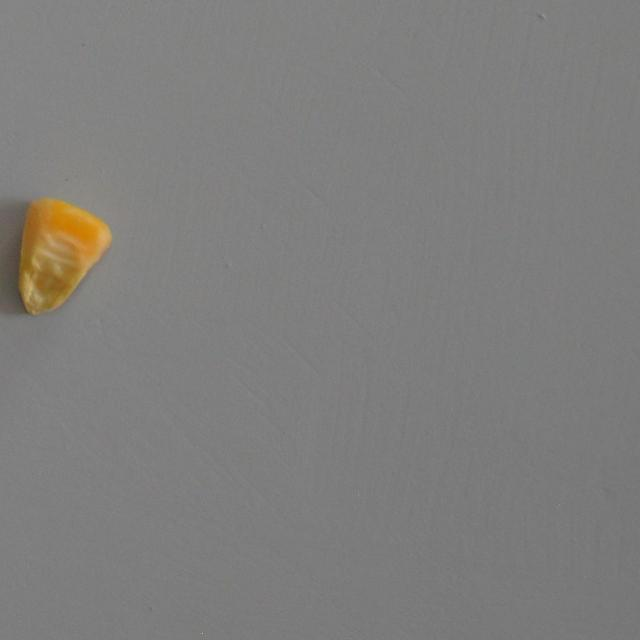entero: (12, 190, 116, 322)
